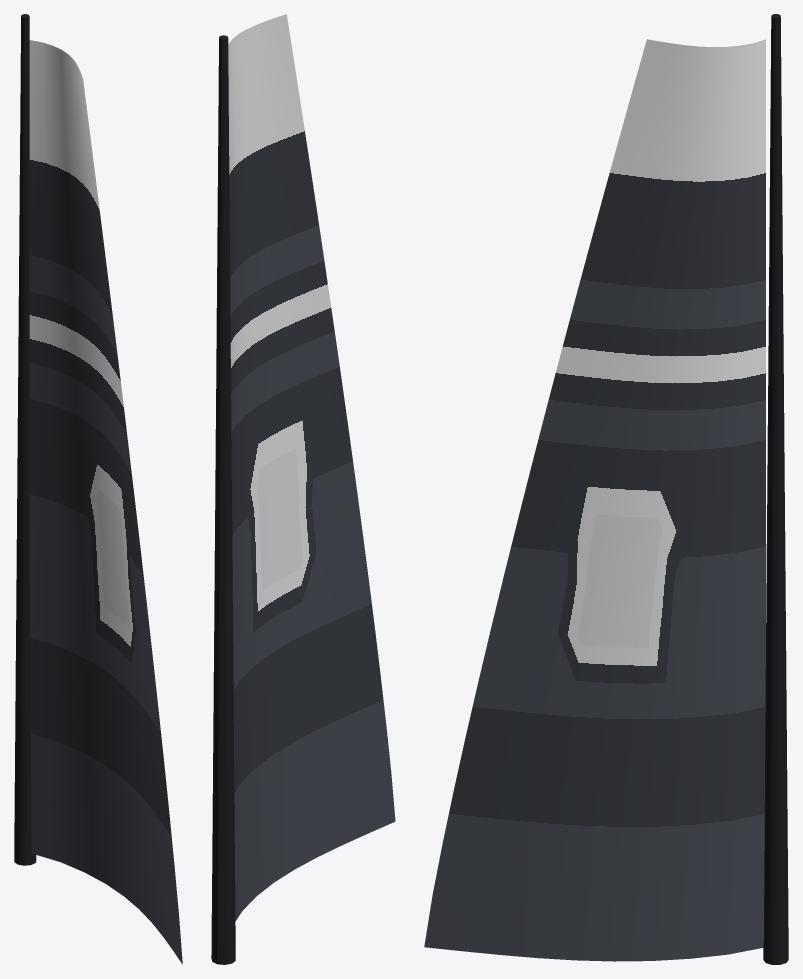
Rendered from rig_6_s.glb.
3 views of the same model, side by side, from view 1: azimuth 30°, elevation 25°; view 2: azimuth 150°, elevation 25°; view 3: azimuth 270°, elevation 25° (orthographic). The views are drawn at different scales.
Parts seen in each view (by area): view 1: rig_6_s_body; view 2: rig_6_s_body; view 3: rig_6_s_body.
Boxes of the visible parts, left/top/right/bottom form: rig_6_s_body: left=14, top=14, right=182, bottom=964; rig_6_s_body: left=211, top=14, right=395, bottom=964; rig_6_s_body: left=424, top=14, right=788, bottom=964.
Bounding box in the file's own units: 1.15 × 26.2 × 9.17.
1 material, 1 textured.
